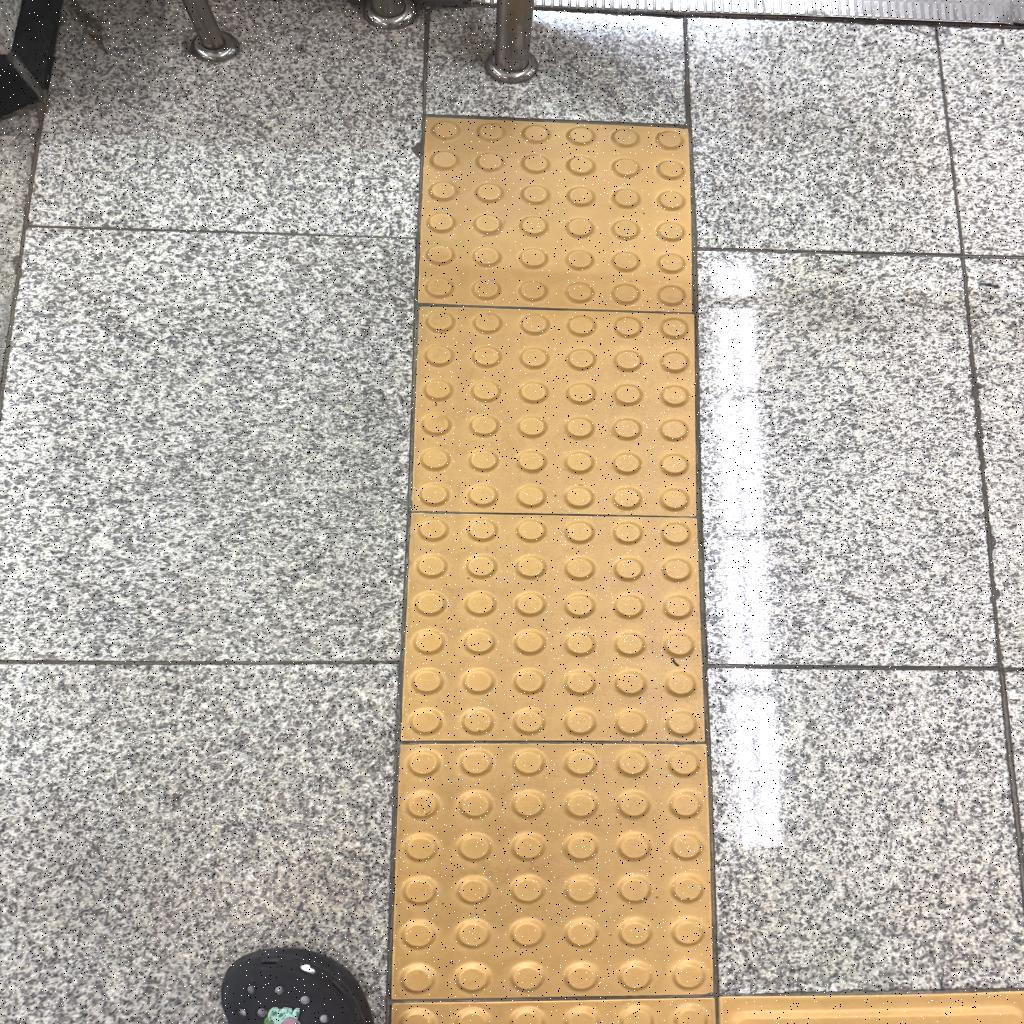Stop block normal: (402, 745, 706, 994), (418, 317, 693, 510)
